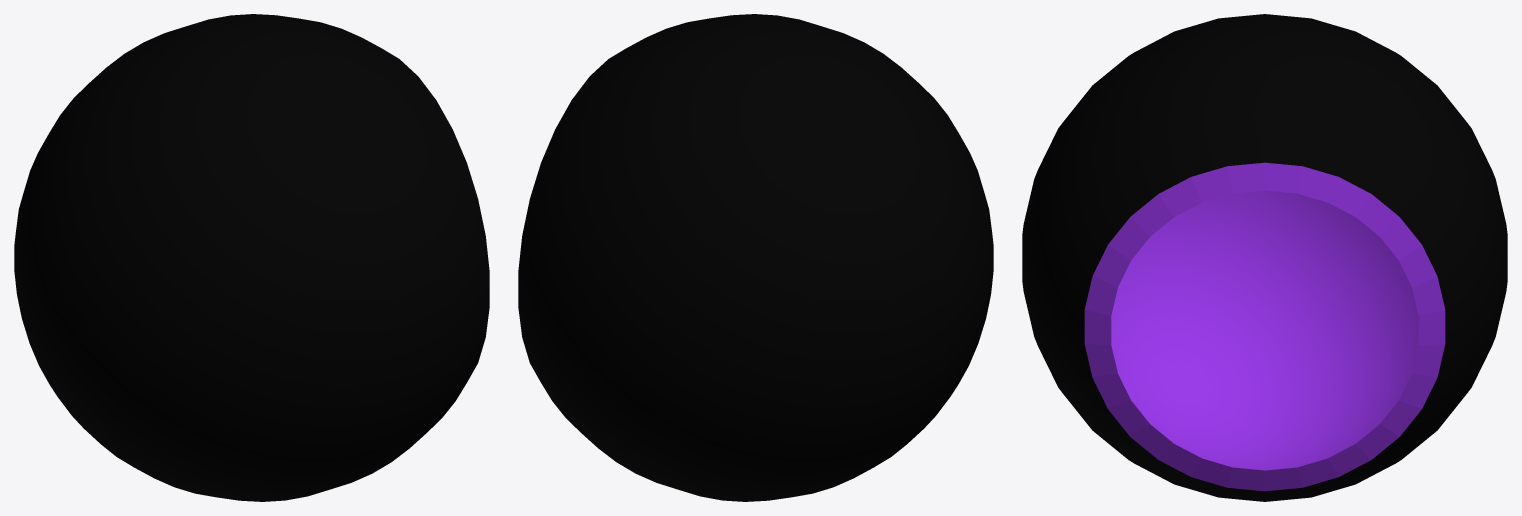
The model's file is Orb.fbx.
3 views of the same model, side by side, from view 1: azimuth 30°, elevation 25°; view 2: azimuth 150°, elevation 25°; view 3: azimuth 270°, elevation 25° (orthographic).
Visible parts, largest first — view 1: pSphere3; view 2: pSphere3; view 3: pSphere3.
Part boxes in pixels (x1=…): pSphere3: x1=14, y1=14, x2=489, y2=501; pSphere3: x1=518, y1=14, x2=993, y2=501; pSphere3: x1=1022, y1=14, x2=1507, y2=501.
Size of the model in its own units: 1.8 by 2.11 by 2.1.
